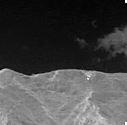Target: (84, 72, 93, 80)
